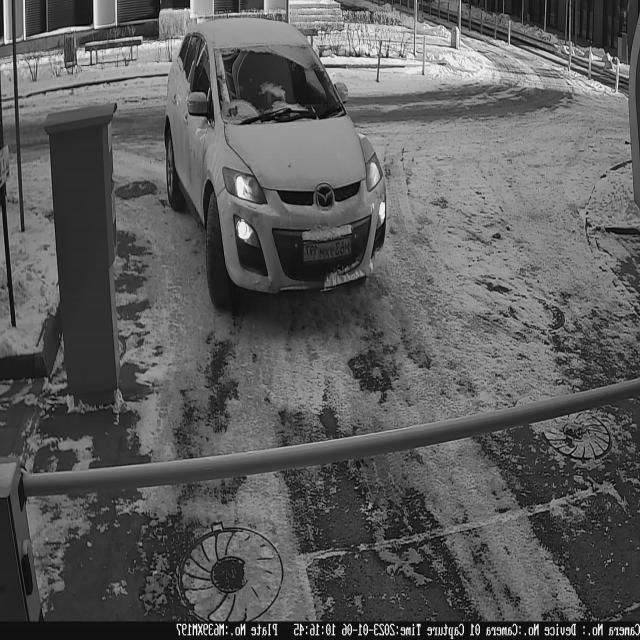car-plate-numbers: (302, 234, 357, 270)
